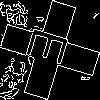E: (25, 25, 79, 71)
